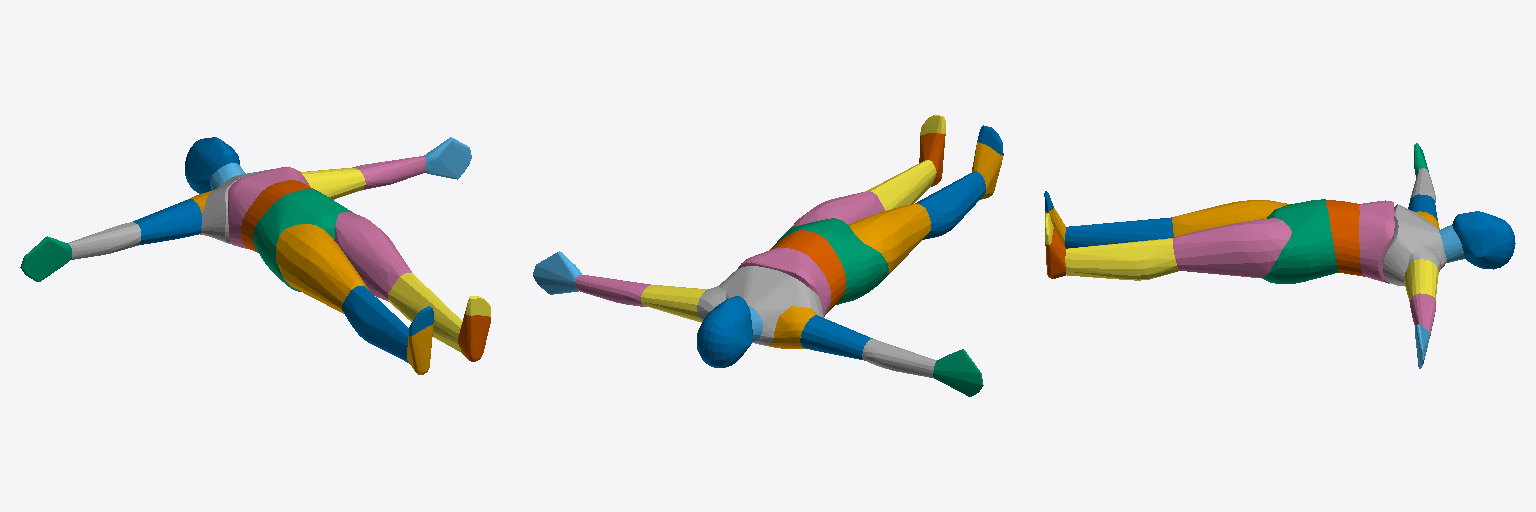
--- Render facts (derived) ---
3 views of the same robot in one strip: view 1: azimuth 30°, elevation 25°; view 2: azimuth 150°, elevation 25°; view 3: azimuth 270°, elevation 25° (orthographic).
Model Humanoid with 51 links and 50 joints (36 revolute, 14 fixed), rooted at root, posed every joint at zero.
Visible links, largest first — view 1: right_UpLeg, left_UpLeg, hip, right_leg_rx, left_leg_rx, spine1, rightArm_rx, head, rightForeArm_rx, rightHand, leftForeArm_rx, leftHand (+5 smaller); view 2: spine2_rx, hip, right_UpLeg, head, right_leg_rx, spine1, spine, rightArm_rx, left_leg_rx, left_UpLeg, rightForeArm_rx, leftArm_rx (+7 smaller); view 3: left_UpLeg, hip, left_leg_rx, head, spine2_rx, spine1, right_leg_rx, right_UpLeg, spine, leftArm_rx, leftForeArm_rx, left_foot (+1 smaller).
Boxes of the visible links, x1=… form: right_UpLeg: x1=276, y1=224, x2=368, y2=313; left_UpLeg: x1=334, y1=212, x2=411, y2=301; hip: x1=253, y1=188, x2=354, y2=291; right_leg_rx: x1=342, y1=286, x2=409, y2=363; left_leg_rx: x1=387, y1=273, x2=462, y2=352; spine1: x1=228, y1=167, x2=309, y2=248; rightArm_rx: x1=133, y1=199, x2=201, y2=244; head: x1=185, y1=137, x2=239, y2=193; rightForeArm_rx: x1=68, y1=222, x2=140, y2=259; rightHand: x1=20, y1=236, x2=71, y2=281; leftForeArm_rx: x1=353, y1=156, x2=425, y2=190; leftHand: x1=424, y1=137, x2=471, y2=179; spine2_rx: x1=719, y1=266, x2=823, y2=346; hip: x1=775, y1=218, x2=888, y2=304; right_UpLeg: x1=849, y1=204, x2=930, y2=274; head: x1=697, y1=296, x2=752, y2=367; right_leg_rx: x1=915, y1=171, x2=985, y2=239; spine1: x1=738, y1=247, x2=830, y2=316; spine: x1=770, y1=230, x2=845, y2=312; rightArm_rx: x1=800, y1=315, x2=872, y2=360; left_leg_rx: x1=865, y1=160, x2=936, y2=210; left_UpLeg: x1=792, y1=191, x2=884, y2=226; rightForeArm_rx: x1=862, y1=339, x2=936, y2=377; leftArm_rx: x1=641, y1=285, x2=707, y2=322; left_UpLeg: x1=1173, y1=218, x2=1291, y2=277; hip: x1=1262, y1=199, x2=1338, y2=283; left_leg_rx: x1=1065, y1=238, x2=1179, y2=280; head: x1=1452, y1=211, x2=1515, y2=269; spine2_rx: x1=1383, y1=204, x2=1446, y2=285; spine1: x1=1359, y1=200, x2=1394, y2=283; right_leg_rx: x1=1065, y1=217, x2=1173, y2=248; right_UpLeg: x1=1172, y1=200, x2=1289, y2=236; spine: x1=1326, y1=200, x2=1364, y2=276; leftArm_rx: x1=1404, y1=259, x2=1438, y2=301; leftForeArm_rx: x1=1410, y1=293, x2=1435, y2=335; left_foot: x1=1045, y1=229, x2=1065, y2=278.
Bounding box of the posed robot: 1.75 × 1.72 × 0.2905 m (x, y, z).
Meshes: 22 distinct files referenced, 22 mesh visuals loaded (22 OBJ).

robot.urdf — Humanoid:
<?xml version="1.0"?>
<robot name="Humanoid">
    <link name="root">
		
	</link>

    <link name="assist_link1">
        
    </link>

    <joint name="0" type="fixed">
        <origin xyz="0 0 0" rpy="0.0 0.0 0.0"/>
        <parent link="root"/>
        <child link="assist_link1"/>
        <axis xyz="0.0 0.0 0.0"/>
        <limit lower="0.0" upper="0.0" effort="0.0" velocity="0.0"/>
    </joint>

    <joint name="assist_jointA1" type="fixed">
        <origin xyz="0.0 0.0 0.0" rpy="0.0 0.0 0.0"/>
        <parent link="assist_link1"/>
        <child link="hip"/>
        <axis xyz="0.0 0.0 0.0"/>
        <limit lower="0.0" upper="0.0" effort="0.0" velocity="0.0"/>
    </joint>

    <link name="hip">
        <inertial>
            <origin xyz="0.00057561 -0.00681268 -0.01696218" rpy="0.0 0.0 0.0"/>
            <mass value="0.0"/>
            <inertia ixx="0.0" ixy="0.0" ixz="0.0" iyy="0.0" iyz="0.0" izz="0.0"/>
        </inertial>
        <visual>
            <origin xyz="0.00057561 -0.00681268 -0.01696218" rpy="0.0 0.0 0.0"/>
            <geometry>
                <mesh filename="package://Humanoid/meshes/body_parts_hips.obj" />
            </geometry>
        </visual>
        <collision>
            <origin xyz="0.00057561 -0.00681268 -0.01696218" rpy="0.0 0.0 0.0"/>
            <geometry>
                <mesh filename="package://Humanoid/meshes/body_parts_hips.obj" />
            </geometry>
        </collision>
    </link>

    <joint name="assist_jointA2" type="fixed">
        <origin xyz="0.0 0.0 0.0" rpy="0.0 0.0 0.0"/>
        <parent link="assist_link1"/>
        <child link="temp1_rx"/>
        <axis xyz="0.0 0.0 0.0"/>
        <limit lower="0.0" upper="0.0" effort="0.0" velocity="0.0"/>
    </joint>

    <joint name="assist_jointA3" type="fixed">
        <origin xyz="0.0 0.0 0.0" rpy="0.0 0.0 0.0"/>
        <parent link="assist_link1"/>
        <child link="temp2_rx"/>
    </joint>

    <link name="temp2_rx">
        
    </link>

    <joint name="2_rx" type="revolute">
        <origin xyz="0.06951974 -0.09140623 -0.00681533" rpy="0.0 0.0 0.0"/>
        <parent link="temp2_rx"/>
        <child link="temp2_ry"/>
        <axis xyz="1.0 0.0 0.0"/>
        <limit lower="-2.5" upper="1.4" effort="1000.0" velocity="0.5"/>
    </joint>

    <link name="temp2_ry">
        
    </link>

    <joint name="2_ry" type="revolute">
        <origin xyz="0 0 0" rpy="0.0 0.0 0.0"/>
        <parent link="temp2_ry"/>
        <child link="temp2_rz"/>
        <axis xyz="0.0 1.0 0.0"/>
        <limit lower="-2.5" upper="1.4" effort="1000.0" velocity="0.5"/>
    </joint>

    <link name="temp2_rz">
        
    </link>

    <joint name="2_rz" type="revolute">
        <origin xyz="0 0 0" rpy="0.0 0.0 0.0"/>
        <parent link="temp2_rz"/>
        <child link="left_UpLeg"/>
        <axis xyz="0.0 0.0 1.0"/>
        <limit lower="-2.5" upper="1.4" effort="1000.0" velocity="0.5"/>
    </joint>

    <link name="left_UpLeg">
        <inertial>
            <origin xyz="0.02136212 -0.15149257 0.00267958" rpy="0.0 0.0 0.0"/>
            <mass value="0.0"/>
            <inertia ixx="0.0" ixy="0.0" ixz="0.0" iyy="0.0" iyz="0.0" izz="0.0"/>
        </inertial>
        <visual>
            <origin xyz="0.02136212  -0.15149257  0.00267958" rpy="0.0 0.0 0.0"/>
            <geometry>
                <mesh filename="package://Humanoid/meshes/body_parts_leftUpLeg.obj" />
            </geometry>
        </visual>
        <collision>
            <origin xyz="0.02136212 -0.15149257 0.00267958" rpy="0.0 0.0 0.0"/>
            <geometry>
                <mesh filename="package://Humanoid/meshes/body_parts_leftUpLeg.obj" />
            </geometry>
        </collision>
    </link>

    <link name="temp1_rx">
        
    </link>

    <link name="right_UpLeg">
        <inertial>
            <origin xyz="-0.02252603 -0.15352734 -0.00307775" rpy="0.0 0.0 0.0"/>
            <mass value="0.0"/>
            <inertia ixx="0.0" ixy="0.0" ixz="0.0" iyy="0.0" iyz="0.0" izz="0.0"/>
        </inertial>
        <visual>
            <origin xyz="-0.02252603 -0.15352734 -0.00307775" rpy="0.0 0.0 0.0"/>
            <geometry>
                <mesh filename="package://Humanoid/meshes/body_parts_rightUpLeg.obj" />
            </geometry>
        </visual>
        <collision>
            <origin xyz="-0.02252603 -0.15352734 -0.00307775" rpy="0.0 0.0 0.0"/>
            <geometry>
                <mesh filename="package://Humanoid/meshes/body_parts_rightUpLeg.obj" />
            </geometry>
        </collision>
    </link>

    <joint name="1_rx" type="revolute">
        <origin xyz="-0.06767048 -0.09052169 -0.00431982" rpy="0.0 0.0 0.0"/>
        <parent link="temp1_rx"/>
        <child link="temp1_ry"/>
        <axis xyz="1.0 0.0 0.0"/>
        <limit lower="-2.5" upper="1.4" effort="1000.0" velocity="0.5"/>
    </joint>

    <link name="temp1_ry">
        
    </link>

    <joint name="1_ry" type="revolute">
        <origin xyz="0 0 0" rpy="0.0 0.0 0.0"/>
        <parent link="temp1_ry"/>
        <child link="temp1_rz"/>
        <axis xyz="0.0 1.0 0.0"/>
        <limit lower="-2.5" upper="1.4" effort="1000.0" velocity="0.5"/>
    </joint>

    <link name="temp1_rz">
        
    </link>

    <joint name="1_rz" type="revolute">
        <origin xyz="0 0 0" rpy="0.0 0.0 0.0"/>
        <parent link="temp1_rz"/>
        <child link="right_UpLeg"/>
        <axis xyz="0.0 0.0 1.0"/>
        <limit lower="-2.5" upper="1.4" effort="1000.0" velocity="0.5"/>
    </joint>

    <link name="left_leg_rx">
        <inertial>
            <origin xyz="-0.00726278 -0.16462932 -0.0345356" rpy="0.0 0.0 0.0"/>
            <mass value="0.0"/>
            <inertia ixx="0.0" ixy="0.0" ixz="0.0" iyy="0.0" iyz="0.0" izz="0.0"/>
        </inertial>
        <visual>
            <origin xyz="-0.00726278 -0.16462932 -0.0345356" rpy="0.0 0.0 0.0"/>
            <geometry>
                <mesh filename="package://Humanoid/meshes/body_parts_leftLeg.obj" />
            </geometry>
        </visual>
        <collision>
            <origin xyz="-0.00726278 -0.16462932 -0.0345356" rpy="0.0 0.0 0.0"/>
            <geometry>
                <mesh filename="package://Humanoid/meshes/body_parts_leftLeg.obj" />
            </geometry>
        </collision>
    </link>

    <joint name="5" type="revolute">
        <origin xyz="0.03427655 -0.37519857 -0.00449581" rpy="0.0 0.0 0.0"/>
        <parent link="left_UpLeg"/>
        <child link="left_leg_rx"/>
        <axis xyz="1.0 0.0 0.0"/>
        <limit lower="-0.1" upper="2.5" effort="1000.0" velocity="0.5"/>
    </joint>

    <link name="right_leg_rx">
        <inertial>
            <origin xyz="0.01018021 -0.15886355 -0.03476419" rpy="0.0 0.0 0.0"/>
            <mass value="0.0"/>
            <inertia ixx="0.0" ixy="0.0" ixz="0.0" iyy="0.0" iyz="0.0" izz="0.0"/>
        </inertial>
        <visual>
            <origin xyz="0.01018021 -0.15886355 -0.03476419" rpy="0.0 0.0 0.0"/>
            <geometry>
                <mesh filename="package://Humanoid/meshes/body_parts_rightLeg.obj" />
            </geometry>
        </visual>
        <collision>
            <origin xyz="0.01018021 -0.15886355 -0.03476419" rpy="0.0 0.0 0.0"/>
            <geometry>
                <mesh filename="package://Humanoid/meshes/body_parts_rightLeg.obj" />
            </geometry>
        </collision>
    </link>

    <joint name="4" type="revolute">
        <origin xyz="-0.03829005 -0.382569 -0.00885003" rpy="0.0 0.0 0.0"/>
        <parent link="right_UpLeg"/>
        <child link="right_leg_rx"/>
        <axis xyz="1.0 0.0 0.0"/>
        <limit lower="-0.1" upper="2.5" effort="1000.0" velocity="0.5"/>
    </joint>

    <link name="left_foot">
        <inertial>
            <origin xyz="0.01451171 -0.03682505 0.03742239" rpy="0.0 0.0 0.0"/>
            <mass value="0.0"/>
            <inertia ixx="0.0" ixy="0.0" ixz="0.0" iyy="0.0" iyz="0.0" izz="0.0"/>
        </inertial>
        <visual>
            <origin xyz="0.01451171 -0.03682505 0.03742239" rpy="0.0 0.0 0.0"/>
            <geometry>
                <mesh filename="package://Humanoid/meshes/body_parts_leftFoot.obj" />
            </geometry>
        </visual>
        <collision>
            <origin xyz="0.01451171 -0.03682505 0.03742239" rpy="0.0 0.0 0.0"/>
            <geometry>
                <mesh filename="package://Humanoid/meshes/body_parts_leftFoot.obj" />
            </geometry>
        </collision>
    </link>

    <joint name="8_rx" type="revolute">
        <origin xyz="-0.0135957 -0.39796048 -0.04369333" rpy="0.0 0.0 0.0"/>
        <parent link="left_leg_rx"/>
        <child link="left_leg_ry"/>
        <axis xyz="1.0 0.0 0.0"/>
        <limit lower="-0.4" upper="0.7" effort="1000.0" velocity="0.5"/>
    </joint>

    <link name="left_leg_ry">
        
    </link>

    <joint name="8_ry" type="revolute">
        <origin xyz="0 0 0" rpy="0.0 0.0 0.0"/>
        <parent link="left_leg_ry"/>
        <child link="left_leg_rz"/>
        <axis xyz="0.0 1.0 0.0"/>
        <limit lower="-0.4" upper="0.7" effort="1000.0" velocity="0.5"/>
    </joint>

    <link name="left_leg_rz">
        
    </link>

    <joint name="8_rz" type="revolute">
        <origin xyz="0 0 0" rpy="0.0 0.0 0.0"/>
        <parent link="left_leg_rz"/>
        <child link="left_foot"/>
        <axis xyz="0.0 0.0 1.0"/>
        <limit lower="-0.4" upper="0.7" effort="1000.0" velocity="0.5"/>
    </joint>

    <link name="right_foot">
        <inertial>
            <origin xyz="-0.01278681 -0.02989952 0.0397387" rpy="0.0 0.0 0.0"/>
            <mass value="0.0"/>
            <inertia ixx="0.0" ixy="0.0" ixz="0.0" iyy="0.0" iyz="0.0" izz="0.0"/>
        </inertial>
        <visual>
            <origin xyz="-0.01278681 -0.02989952 0.0397387" rpy="0.0 0.0 0.0"/>
            <geometry>
                <mesh filename="package://Humanoid/meshes/body_parts_rightFoot.obj" />
            </geometry>
        </visual>
        <collision>
            <origin xyz="-0.01278681 -0.02989952 0.0397387" rpy="0.0 0.0 0.0"/>
            <geometry>
                <mesh filename="package://Humanoid/meshes/body_parts_rightFoot.obj" />
            </geometry>
        </collision>
    </link>

    <joint name="7_rx" type="revolute">
        <origin xyz="0.01577377 -0.3984146 -0.0423118" rpy="0.0 0.0 0.0"/>
        <parent link="right_leg_rx"/>
        <child link="right_leg_ry"/>
        <axis xyz="1.0 0.0 0.0"/>
        <limit lower="-0.4" upper="0.7" effort="1000.0" velocity="0.5"/>
    </joint>

    <link name="right_leg_ry">
        
    </link>

    <joint name="7_ry" type="revolute">
        <origin xyz="0 0 0" rpy="0.0 0.0 0.0"/>
        <parent link="right_leg_ry"/>
        <child link="right_leg_rz"/>
        <axis xyz="0.0 1.0 0.0"/>
        <limit lower="-0.4" upper="0.7" effort="1000.0" velocity="0.5"/>
    </joint>

    <link name="right_leg_rz">
        
    </link>

    <joint name="7_rz" type="revolute">
        <origin xyz="0 0 0" rpy="0.0 0.0 0.0"/>
        <parent link="right_leg_rz"/>
        <child link="right_foot"/>
        <axis xyz="0.0 0.0 1.0"/>
        <limit lower="-0.4" upper="0.7" effort="1000.0" velocity="0.5"/>
    </joint>

    <link name="left_toe">
        <inertial>
            <origin xyz="-0.0072139 -0.00405795 0.02618084" rpy="0.0 0.0 0.0"/>
            <mass value="0.0"/>
            <inertia ixx="0.0" ixy="0.0" ixz="0.0" iyy="0.0" iyz="0.0" izz="0.0"/>
        </inertial>
        <visual>
            <origin xyz="-0.0072139 -0.00405795 0.02618084" rpy="0.0 0.0 0.0"/>
            <geometry>
                <mesh filename="package://Humanoid/meshes/body_parts_leftToeBase.obj" />
            </geometry>
        </visual>
        <collision>
            <origin xyz="-0.0072139 -0.00405795 0.02618084" rpy="0.0 0.0 0.0"/>
            <geometry>
                <mesh filename="package://Humanoid/meshes/body_parts_leftToeBase.obj" />
            </geometry>
        </collision>
    </link>

    <joint name="11" type="fixed">
        <origin xyz="0.02635814 -0.05579078 0.1192884" rpy="0.0 0.0 0.0"/>
        <parent link="left_foot"/>
        <child link="left_toe"/>
        <axis xyz="0.0 0.0 0.0"/>
        <limit lower="0.0" upper="0.0" effort="0.0" velocity="0.0"/>
    </joint>

    <link name="right_toe">
        <inertial>
            <origin xyz="0.00808544 -0.00602809 0.02469485" rpy="0.0 0.0 0.0"/>
            <mass value="0.0"/>
            <inertia ixx="0.0" ixy="0.0" ixz="0.0" iyy="0.0" iyz="0.0" izz="0.0"/>
        </inertial>
        <visual>
            <origin xyz="0.00808544 -0.00602809 0.02469485" rpy="0.0 0.0 0.0"/>
            <geometry>
                <mesh filename="package://Humanoid/meshes/body_parts_rightToeBase.obj" />
            </geometry>
        </visual>
        <collision>
            <origin xyz="0.00808544 -0.00602809 0.02469485" rpy="0.0 0.0 0.0"/>
            <geometry>
                <mesh filename="package://Humanoid/meshes/body_parts_rightToeBase.obj" />
            </geometry>
        </collision>
    </link>

    <joint name="10" type="fixed">
        <origin xyz="-0.02537176 -0.04814398 0.12334795" rpy="0.0 0.0 0.0"/>
        <parent link="right_foot"/>
        <child link="right_toe"/>
        <axis xyz="0.0 0.0 0.0"/>
        <limit lower="0.0" upper="0.0" effort="0.0" velocity="0.0"/>
    </joint>

    <link name="spine">
        <inertial>
            <origin xyz="0.0029969 0.06265952 0.02763221" rpy="0.0 0.0 0.0"/>
            <mass value="0.0"/>
            <inertia ixx="0.0" ixy="0.0" ixz="0.0" iyy="0.0" iyz="0.0" izz="0.0"/>
        </inertial>
        <visual>
            <origin xyz="0.0029969 0.06265952 0.02763221" rpy="0.0 0.0 0.0"/>
            <geometry>
                <mesh filename="package://Humanoid/meshes/body_parts_spine.obj" />
            </geometry>
        </visual>
        <collision>
            <origin xyz="0.0029969 0.06265952 0.02763221" rpy="0.0 0.0 0.0"/>
            <geometry>
                <mesh filename="package://Humanoid/meshes/body_parts_spine.obj" />
            </geometry>
        </collision>
    </link>
    
    <joint name="3" type="fixed">
        <origin xyz="-0.00253287 0.10896324 -0.02669631" rpy="0.0 0.0 0.0"/>
        <parent link="hip"/>
        <child link="spine"/>
        <axis xyz="0.0 0.0 0.0"/>
        <limit lower="0.0" upper="0.0" effort="0.0" velocity="0.0"/>
    </joint>

    <link name="spine1">
        <inertial>
            <origin xyz="-0.00052418 0.02933144 0.02045965" rpy="0.0 0.0 0.0"/>
            <mass value="0.0"/>
            <inertia ixx="0.0" ixy="0.0" ixz="0.0" iyy="0.0" iyz="0.0" izz="0.0"/>
        </inertial>
        <visual>
            <origin xyz="-0.00052418 0.02933144 0.02045965" rpy="0.0 0.0 0.0"/>
            <geometry>
                <mesh filename="package://Humanoid/meshes/body_parts_spine1.obj" />
            </geometry>
        </visual>
        <collision>
            <origin xyz="-0.00052418 0.02933144 0.02045965" rpy="0.0 0.0 0.0"/>
            <geometry>
                <mesh filename="package://Humanoid/meshes/body_parts_spine1.obj" />
            </geometry>
        </collision>
    </link>

    <joint name="6" type="fixed">
        <origin xyz="0.00548704 0.13518043 0.00109247" rpy="0.0 0.0 0.0"/>
        <parent link="spine"/>
        <child link="spine1"/>
        <axis xyz="0.0 0.0 0.0"/>
        <limit lower="0.0" upper="0.0" effort="0.0" velocity="0.0"/>
    </joint>

    <link name="spine2_rx">
        <inertial>
            <origin xyz="-0.0022121 0.09440039 -0.03596294" rpy="0.0 0.0 0.0"/>
            <mass value="0.0"/>
            <inertia ixx="0.0" ixy="0.0" ixz="0.0" iyy="0.0" iyz="0.0" izz="0.0"/>
        </inertial>
        <visual>
            <origin xyz="-0.0022121 0.09440039 -0.03596294" rpy="0.0 0.0 0.0"/>
            <geometry>
                <mesh filename="package://Humanoid/meshes/body_parts_spine2.obj" />
            </geometry>
        </visual>
        <collision>
            <origin xyz="-0.0022121 0.09440039 -0.03596294" rpy="0.0 0.0 0.0"/>
            <geometry>
                <mesh filename="package://Humanoid/meshes/body_parts_spine2.obj" />
            </geometry>
        </collision>
    </link>

    <link name="assist_link2">
        
    </link>

    <joint name="9" type="revolute">
        <origin xyz="0.001457 0.05292223 0.02542457" rpy="0.0 0.0 0.0"/>
        <parent link="spine1"/>
        <child link="assist_link2"/>
        <axis xyz="0.0 1.0 0.0"/>
        <limit lower="-1.4" upper="1.4" effort="1000.0" velocity="0.5"/>
    </joint>

    <joint name="assist_B1" type="fixed">
        <origin xyz="0.0 0.0 0.0" rpy="0.0 0.0 0.0"/>
        <parent link="assist_link2"/>
        <child link="temp14"/>
        <axis xyz="0.0 0.0 0.0"/>
        <limit lower="0.0" upper="0.0" effort="0.0" velocity="0.0"/>
    </joint>

     <joint name="assist_B2" type="fixed">
        <origin xyz="0.0 0.0 0.0" rpy="0.0 0.0 0.0"/>
        <parent link="assist_link2"/>
        <child link="spine2_rx"/>
        <axis xyz="0.0 0.0 0.0"/>
        <limit lower="0.0" upper="0.0" effort="0.0" velocity="0.0"/>
    </joint>

     <joint name="assist_B3" type="fixed">
        <origin xyz="0.0 0.0 0.0" rpy="0.0 0.0 0.0"/>
        <parent link="assist_link2"/>
        <child link="temp13"/>
        <axis xyz="0.0 0.0 0.0"/>
        <limit lower="0.0" upper="0.0" effort="0.0" velocity="0.0"/>
    </joint>
    

    <link name="neck">
        <inertial>
            <origin xyz="0.00058504 0.03762274 0.01938053" rpy="0.0 0.0 0.0"/>
            <mass value="0.0"/>
            <inertia ixx="0.0" ixy="0.0" ixz="0.0" iyy="0.0" iyz="0.0" izz="0.0"/>
        </inertial>
        <visual>
            <origin xyz="0.00058504 0.03762274 0.01938053" rpy="0.0 0.0 0.0"/>
            <geometry>
                <mesh filename="package://Humanoid/meshes/body_parts_neck.obj" />
            </geometry>
        </visual>
        <collision>
            <origin xyz="0.00058504 0.03762274 0.01938053" rpy="0.0 0.0 0.0"/>
            <geometry>
                <mesh filename="package://Humanoid/meshes/body_parts_neck.obj" />
            </geometry>
        </collision>
    </link>

    <joint name="12_rx" type="revolute">
        <origin xyz="-0.00277839 0.21387038 -0.04285703" rpy="0.0 0.0 0.0"/>
        <parent link="spine2_rx"/>
        <child link="spine2_ry"/>
        <axis xyz="1.0 0.0 0.0"/>
        <limit lower="-0.6" upper="0.6" effort="1000.0" velocity="0.5"/>
    </joint>

    <link name="spine2_ry">
        
    </link>

    <joint name="12_ry" type="revolute">
        <origin xyz="0 0 0" rpy="0.0 0.0 0.0"/>
        <parent link="spine2_ry"/>
        <child link="spine2_rz"/>
        <axis xyz="0.0 1.0 0.0"/>
        <limit lower="-0.6" upper="0.6" effort="1000.0" velocity="0.5"/>
    </joint>

    <link name="spine2_rz">
        
    </link>

    <joint name="12_rz" type="revolute">
        <origin xyz="0 0 0" rpy="0.0 0.0 0.0"/>
        <parent link="spine2_rz"/>
        <child link="neck"/>
        <axis xyz="0.0 0.0 1.0"/>
        <limit lower="-0.6" upper="0.6" effort="1000.0" velocity="0.5"/>
    </joint>

    <link name="head">
        <inertial>
            <origin xyz="-0.00434165 0.0912436 -0.0164248" rpy="0.0 0.0 0.0"/>
            <mass value="0.0"/>
            <inertia ixx="0.0" ixy="0.0" ixz="0.0" iyy="0.0" iyz="0.0" izz="0.0"/>
        </inertial>
        <visual>
            <origin xyz="-0.00434165 0.0912436 -0.0164248" rpy="0.0 0.0 0.0"/>
            <geometry>
                <mesh filename="package://Humanoid/meshes/body_parts_head.obj" />
            </geometry>
        </visual>
        <collision>
            <origin xyz="-0.00434165 0.0912436 -0.0164248" rpy="0.0 0.0 0.0"/>
            <geometry>
                <mesh filename="package://Humanoid/meshes/body_parts_head.obj" />
            </geometry>
        </collision>
    </link>

    <joint name="15" type="fixed">
        <origin xyz="0.00515184 0.06496963 0.05134897" rpy="0.0 0.0 0.0"/>
        <parent link="neck"/>
        <child link="head"/>
        <axis xyz="0.0 0.0 0.0"/>
        <limit lower="0.0" upper="0.0" effort="0.0" velocity="0.0"/>
    </joint>

    <link name="temp14">
        <inertial>
            <origin xyz="0.0 0.0 0.0" rpy="0.0 0.0 0.0"/>
            <mass value="0.0"/>
            <inertia ixx="0.0" ixy="0.0" ixz="0.0" iyy="0.0" iyz="0.0" izz="0.0"/>
        </inertial>
        <visual name="">
            <origin xyz="0.0 0.0 0.0" rpy="0.0 0.0 0.0"/>
            <geometry>
                <box size="0.0 0.0 0.0"/>
            </geometry>
            <material name="">
                <color rgba="1.0 0.0 0.0 1.0"/>
                <texture filename=""/>
            </material>
        </visual>
        <collision>
            <origin xyz="0.0 0.0 0.0" rpy="0.0 0.0 0.0"/>
            <geometry>
                <box size="0.0 0.0 0.0"/>
            </geometry>
        </collision>
    </link>

    <joint name="14" type="fixed">
        <origin xyz="0.07884474 0.12174932 -0.03408961" rpy="0.0 0.0 0.0"/>
        <parent link="temp14"/>
        <child link="leftShoulder_rx"/>
        <axis xyz="1.0 0.0 1.0"/>
        <limit lower="-1.0" upper="1.0" effort="1000.0" velocity="0.5"/>
    </joint>

    <link name="temp13">
        <inertial>
            <origin xyz="0.0 0.0 0.0" rpy="0.0 0.0 0.0"/>
            <mass value="0.0"/>
            <inertia ixx="0.0" ixy="0.0" ixz="0.0" iyy="0.0" iyz="0.0" izz="0.0"/>
        </inertial>
        <visual name="">
            <origin xyz="0.0 0.0 0.0" rpy="0.0 0.0 0.0"/>
            <geometry>
                <box size="0.0 0.0 0.0"/>
            </geometry>
            <material name="">
                <color rgba="1.0 0.0 0.0 1.0"/>
                <texture filename=""/>
            </material>
        </visual>
        <collision>
            <origin xyz="0.0 0.0 0.0" rpy="0.0 0.0 0.0"/>
            <geometry>
                <box size="0.0 0.0 0.0"/>
            </geometry>
        </collision>
    </link>

    <joint name="13" type="fixed">
        <origin xyz="-0.08175919 0.11883285 -0.03861528" rpy="0.0 0.0 0.0"/>
        <parent link="temp13"/>
        <child link="rightShoulder_rx"/>
        <axis xyz="1.0 0.0 1.0"/>
        <limit lower="-1.0" upper="1.0" effort="1000.0" velocity="0.5"/>
    </joint>

    <link name="leftShoulder_rx">
        <inertial>
            <origin xyz="0.06559623 0.02613187 -0.02027318" rpy="0.0 0.0 0.0"/>
            <mass value="0.0"/>
            <inertia ixx="0.0" ixy="0.0" ixz="0.0" iyy="0.0" iyz="0.0" izz="0.0"/>
        </inertial>
        <visual>
            <origin xyz="0.06559623 0.02613187 -0.02027318" rpy="0.0 0.0 0.0"/>
            <geometry>
                <mesh filename="package://Humanoid/meshes/body_parts_leftShoulder.obj" />
            </geometry>
        </visual>
        <collision>
            <origin xyz="0.06559623 0.02613187 -0.02027318" rpy="0.0 0.0 0.0"/>
            <geometry>
                <mesh filename="package://Humanoid/meshes/body_parts_leftShoulder.obj" />
            </geometry>
        </collision>
    </link>

    <link name="rightShoulder_rx">
        <inertial>
            <origin xyz="-0.0667859 0.02682777 -0.01567558" rpy="0.0 0.0 0.0"/>
            <mass value="0.0"/>
            <inertia ixx="0.0" ixy="0.0" ixz="0.0" iyy="0.0" iyz="0.0" izz="0.0"/>
        </inertial>
        <visual>
            <origin xyz="-0.0667859 0.02682777 -0.01567558" rpy="0.0 0.0 0.0"/>
            <geometry>
                <mesh filename="package://Humanoid/meshes/body_parts_rightShoulder.obj" />
            </geometry>
        </visual>
        <collision>
            <origin xyz="-0.0667859 0.02682777 -0.01567558" rpy="0.0 0.0 0.0"/>
            <geometry>
                <mesh filename="package://Humanoid/meshes/body_parts_rightShoulder.obj" />
            </geometry>
        </collision>
    </link>

    <joint name="17_rx" type="revolute">
        <origin xyz="0.09097692 0.03046888 -0.00886815" rpy="0.0 0.0 0.0"/>
        <parent link="leftShoulder_rx"/>
        <child link="leftShoulder_ry"/>
        <axis xyz="1.0 0.0 0.0"/>
        <limit lower="-1.4" upper="0.9" effort="1000.0" velocity="0.5"/>
    </joint>

    <link name="leftShoulder_ry">
        
    </link>

    <joint name="17_ry" type="revolute">
        <origin xyz="0 0 0" rpy="0.0 0.0 0.0"/>
        <parent link="leftShoulder_ry"/>
        <child link="leftShoulder_rz"/>
        <axis xyz="0.0 1.0 0.0"/>
        <limit lower="-1.4" upper="0.9" effort="1000.0" velocity="0.5"/>
    </joint>

    <link name="leftShoulder_rz">
        
    </link>

    <joint name="17_rz" type="revolute">
        <origin xyz="0 0 0" rpy="0.0 0.0 0.0"/>
        <parent link="leftShoulder_rz"/>
        <child link="leftArm_rx"/>
        <axis xyz="0.0 0.0 1.0"/>
        <limit lower="-1.4" upper="0.9" effort="1000.0" velocity="0.5"/>
    </joint>

    <link name="leftArm_rx">
        <inertial>
            <origin xyz="0.12948829 -0.01228957 -0.0090026" rpy="0.0 0.0 0.0"/>
            <mass value="0.0"/>
            <inertia ixx="0.0" ixy="0.0" ixz="0.0" iyy="0.0" iyz="0.0" izz="0.0"/>
        </inertial>
        <visual>
            <origin xyz="0.12948829 -0.01228957 -0.0090026" rpy="0.0 0.0 0.0"/>
            <geometry>
                <mesh filename="package://Humanoid/meshes/body_parts_leftArm.obj" />
            </geometry>
        </visual>
        <collision>
            <origin xyz="0.12948829 -0.01228957 -0.0090026" rpy="0.0 0.0 0.0"/>
            <geometry>
                <mesh filename="package://Humanoid/meshes/body_parts_leftArm.obj" />
            </geometry>
        </collision>
    </link>

    <joint name="19_rx" type="revolute">
        <origin xyz="0.2596122 -0.01277207 -0.02745643" rpy="0.0 0.0 0.0"/>
        <parent link="leftArm_rx"/>
        <child link="leftArm_ry"/>
        <axis xyz="1.0 0.0 0.0"/>
        <limit lower="-1.4" upper="0.9" effort="1000.0" velocity="0.5"/>
    </joint>

    <link name="leftArm_ry">
        
    </link>

    <joint name="19_ry" type="revolute">
        <origin xyz="0 0 0" rpy="0.0 0.0 0.0"/>
        <parent link="leftArm_ry"/>
        <child link="leftArm_rz"/>
        <axis xyz="0.0 1.0 0.0"/>
        <limit lower="-1.4" upper="0.0" effort="1000.0" velocity="0.5"/>
    </joint>

    <link name="leftArm_rz">
        
    </link>

    <joint name="19_rz" type="revolute">
        <origin xyz="0 0 0" rpy="0.0 0.0 0.0"/>
        <parent link="leftArm_rz"/>
        <child link="leftForeArm_rx"/>
        <axis xyz="0.0 0.0 1.0"/>
        <limit lower="-1.4" upper="0.9" effort="1000.0" velocity="0.5"/>
    </joint>

    <link name="leftForeArm_rx">
        <inertial>
            <origin xyz="0.10665728 0.00690599 0.00605961" rpy="0.0 0.0 0.0"/>
            <mass value="0.0"/>
            <inertia ixx="0.0" ixy="0.0" ixz="0.0" iyy="0.0" iyz="0.0" izz="0.0"/>
        </inertial>
        <visual>
            <origin xyz="0.10665728 0.00690599 0.00605961" rpy="0.0 0.0 0.0"/>
            <geometry>
                <mesh filename="package://Humanoid/meshes/body_parts_leftForeArm.obj" />
            </geometry>
        </visual>
        <collision>
            <origin xyz="0.10665728 0.00690599 0.00605961" rpy="0.0 0.0 0.0"/>
            <geometry>
                <mesh filename="package://Humanoid/meshes/body_parts_leftForeArm.obj" />
            </geometry>
        </collision>
    </link>

    <joint name="21_rx" type="revolute">
        <origin xyz="0.2492336 0.00898604 -0.00117092" rpy="0.0 0.0 0.0"/>
        <parent link="leftForeArm_rx"/>
        <child link="leftForeArm_ry"/>
        <axis xyz="1.0 0.0 0.0"/>
        <limit lower="-1.4" upper="0.6" effort="1000.0" velocity="0.5"/>
    </joint>

    <link name="leftForeArm_ry">
        
    </link>

    <joint name="21_ry" type="revolute">
        <origin xyz="0 0 0" rpy="0.0 0.0 0.0"/>
        <parent link="leftForeArm_ry"/>
        <child link="leftForeArm_rz"/>
        <axis xyz="0.0 1.0 0.0"/>
        <limit lower="-1.4" upper="0.6" effort="1000.0" velocity="0.5"/>
    </joint>

    <link name="leftForeArm_rz">
        
    </link>

    <joint name="21_rz" type="revolute">
        <origin xyz="0 0 0" rpy="0.0 0.0 0.0"/>
        <parent link="leftForeArm_rz"/>
        <child link="leftHand"/>
        <axis xyz="0.0 0.0 1.0"/>
        <limit lower="-1.4" upper="0.6" effort="1000.0" velocity="0.5"/>
    </joint>

    <link name="leftHand">
        <inertial>
            <origin xyz="0.08488861 -0.00938576 0.00616219" rpy="0.0 0.0 0.0"/>
            <mass value="0.0"/>
            <inertia ixx="0.0" ixy="0.0" ixz="0.0" iyy="0.0" iyz="0.0" izz="0.0"/>
        </inertial>
        <visual>
            <origin xyz="0.08488861 -0.00938576 0.00616219" rpy="0.0 0.0 0.0"/>
            <geometry>
                <mesh filename="package://Humanoid/meshes/body_parts_leftHand.obj" />
            </geometry>
        </visual>
        <collision>
            <origin xyz="0.08488861 -0.00938576 0.00616219" rpy="0.0 0.0 0.0"/>
            <geometry>
                <mesh filename="package://Humanoid/meshes/body_parts_leftHand.obj" />
            </geometry>
        </collision>
    </link>

    <joint name="16_rx" type="revolute">
        <origin xyz="-0.09601238 0.03255117 -0.00914307" rpy="0.0 0.0 0.0"/>
        <parent link="rightShoulder_rx"/>
        <child link="rightShoulder_ry"/>
        <axis xyz="1.0 0.0 0.0"/>
        <limit lower="-1.4" upper="0.9" effort="1000.0" velocity="0.5"/>
    </joint>

    <link name="rightShoulder_ry">
        
    </link>

    <joint name="16_ry" type="revolute">
        <origin xyz="0 0 0" rpy="0.0 0.0 0.0"/>
        <parent link="rightShoulder_ry"/>
        <child link="rightShoulder_rz"/>
        <axis xyz="0.0 1.0 0.0"/>
        <limit lower="-1.4" upper="0.9" effort="1000.0" velocity="0.5"/>
    </joint>

    <link name="rightShoulder_rz">
        
    </link>

    <joint name="16_rz" type="revolute">
        <origin xyz="0 0 0" rpy="0.0 0.0 0.0"/>
        <parent link="rightShoulder_rz"/>
        <child link="rightArm_rx"/>
        <axis xyz="0.0 0.0 1.0"/>
        <limit lower="-1.4" upper="0.9" effort="1000.0" velocity="0.5"/>
    </joint>

    <link name="rightArm_rx">
        <inertial>
            <origin xyz="-0.12550239 -0.01296561 -0.00590812" rpy="0.0 0.0 0.0"/>
            <mass value="0.0"/>
            <inertia ixx="0.0" ixy="0.0" ixz="0.0" iyy="0.0" iyz="0.0" izz="0.0"/>
        </inertial>
        <visual>
            <origin xyz="-0.12550239 -0.01296561 -0.00590812" rpy="0.0 0.0 0.0"/>
            <geometry>
                <mesh filename="package://Humanoid/meshes/body_parts_rightArm.obj" />
            </geometry>
        </visual>
        <collision>
            <origin xyz="-0.12550239 -0.01296561 -0.00590812" rpy="0.0 0.0 0.0"/>
            <geometry>
                <mesh filename="package://Humanoid/meshes/body_parts_rightArm.obj" />
            </geometry>
        </collision>
    </link>

    <joint name="18_rx" type="revolute">
        <origin xyz="-0.25374195 -0.01332924 -0.02140098" rpy="0.0 0.0 0.0"/>
        <parent link="rightArm_rx"/>
        <child link="rightArm_ry"/>
        <axis xyz="1.0 0.0 0.0"/>
        <limit lower="-1.4" upper="0.9" effort="1000.0" velocity="0.5"/>
    </joint>

    <link name="rightArm_ry">
        
    </link>

    <joint name="18_ry" type="revolute">
        <origin xyz="0 0 0" rpy="0.0 0.0 0.0"/>
        <parent link="rightArm_ry"/>
        <child link="rightArm_rz"/>
        <axis xyz="0.0 1.0 0.0"/>
        <limit lower="-1.4" upper="0.0" effort="1000.0" velocity="0.5"/>
    </joint>

    <link name="rightArm_rz">
        
    </link>

    <joint name="18_rz" type="revolute">
        <origin xyz="0 0 0" rpy="0.0 0.0 0.0"/>
        <parent link="rightArm_rz"/>
        <child link="rightForeArm_rx"/>
        <axis xyz="0.0 0.0 1.0"/>
        <limit lower="-1.4" upper="0.9" effort="1000.0" velocity="0.5"/>
    </joint>

    <link name="rightForeArm_rx">
        <inertial>
            <origin xyz="-0.10992141 0.00679169 0.00313351" rpy="0.0 0.0 0.0"/>
            <mass value="0.0"/>
            <inertia ixx="0.0" ixy="0.0" ixz="0.0" iyy="0.0" iyz="0.0" izz="0.0"/>
        </inertial>
        <visual>
            <origin xyz="-0.10992141 0.00679169 0.00313351" rpy="0.0 0.0 0.0"/>
            <geometry>
                <mesh filename="package://Humanoid/meshes/body_parts_rightForeArm.obj" />
            </geometry>
        </visual>
        <collision>
            <origin xyz="-0.10992141 0.00679169 0.00313351" rpy="0.0 0.0 0.0"/>
            <geometry>
                <mesh filename="package://Humanoid/meshes/body_parts_rightForeArm.obj" />
            </geometry>
        </collision>
    </link>

    <joint name="20_rx" type="revolute">
        <origin xyz="-0.2552981 0.0077723 -0.0055592" rpy="0.0 0.0 0.0"/>
        <parent link="rightForeArm_rx"/>
        <child link="rightForeArm_ry"/>
        <axis xyz="1.0 0.0 0.0"/>
        <limit lower="-1.4" upper="0.6" effort="1000.0" velocity="0.5"/>
    </joint>

    <link name="rightForeArm_ry">
        
    </link>

    <joint name="20_ry" type="revolute">
        <origin xyz="0 0 0" rpy="0.0 0.0 0.0"/>
        <parent link="rightForeArm_ry"/>
        <child link="rightForeArm_rz"/>
        <axis xyz="0.0 1.0 0.0"/>
        <limit lower="-1.4" upper="0.6" effort="1000.0" velocity="0.5"/>
    </joint>

    <link name="rightForeArm_rz">
        
    </link>

    <joint name="20_rz" type="revolute">
        <origin xyz="0 0 0" rpy="0.0 0.0 0.0"/>
        <parent link="rightForeArm_rz"/>
        <child link="rightHand"/>
        <axis xyz="0.0 0.0 1.0"/>
        <limit lower="-1.4" upper="0.6" effort="1000.0" velocity="0.5"/>
    </joint>

    <link name="rightHand">
        <inertial>
            <origin xyz="-0.08138476 -0.00979895 0.0080402" rpy="0.0 0.0 0.0"/>
            <mass value="0.0"/>
            <inertia ixx="0.0" ixy="0.0" ixz="0.0" iyy="0.0" iyz="0.0" izz="0.0"/>
        </inertial>
        <visual>
            <origin xyz="-0.08138476 -0.00979895 0.0080402" rpy="0.0 0.0 0.0"/>
            <geometry>
                <mesh filename="package://Humanoid/meshes/body_parts_rightHand.obj" />
            </geometry>
        </visual>
        <collision>
            <origin xyz="-0.08138476 -0.00979895 0.0080402" rpy="0.0 0.0 0.0"/>
            <geometry>
                <mesh filename="package://Humanoid/meshes/body_parts_rightHand.obj" />
            </geometry>
        </collision>
    </link>

</robot>
